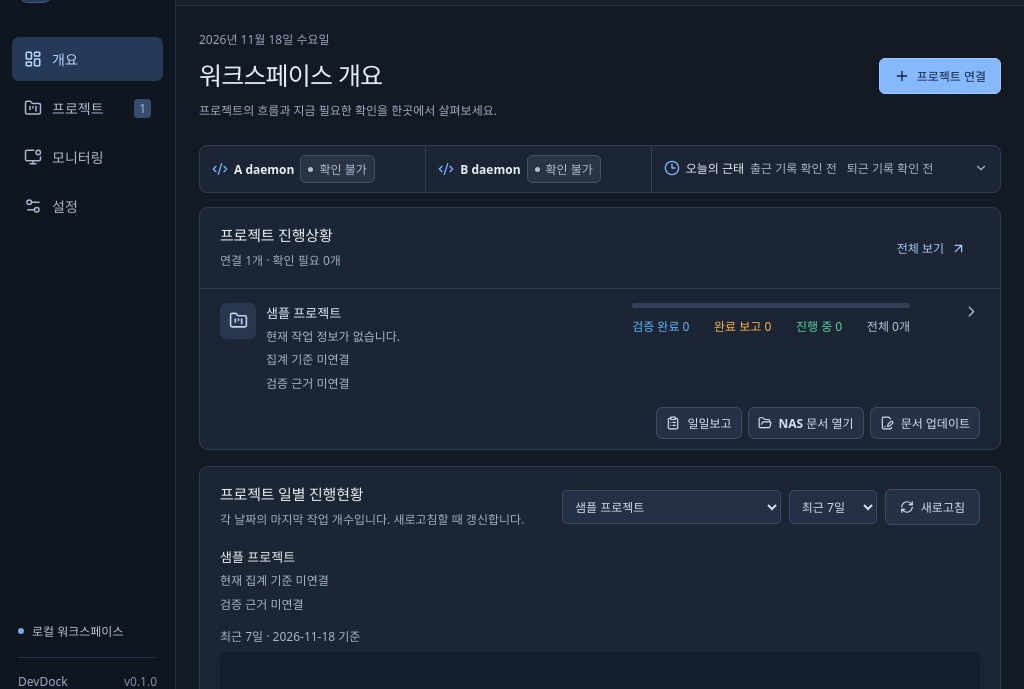
Scenario: opens the selected NAS folder editor when publish targets are missing
The width and height of the screenshot is (1024, 689).
Click the button with aria-label "샘플 프로젝트 문서 업데이트". click: click(925, 423)
box: [870,407,980,439]
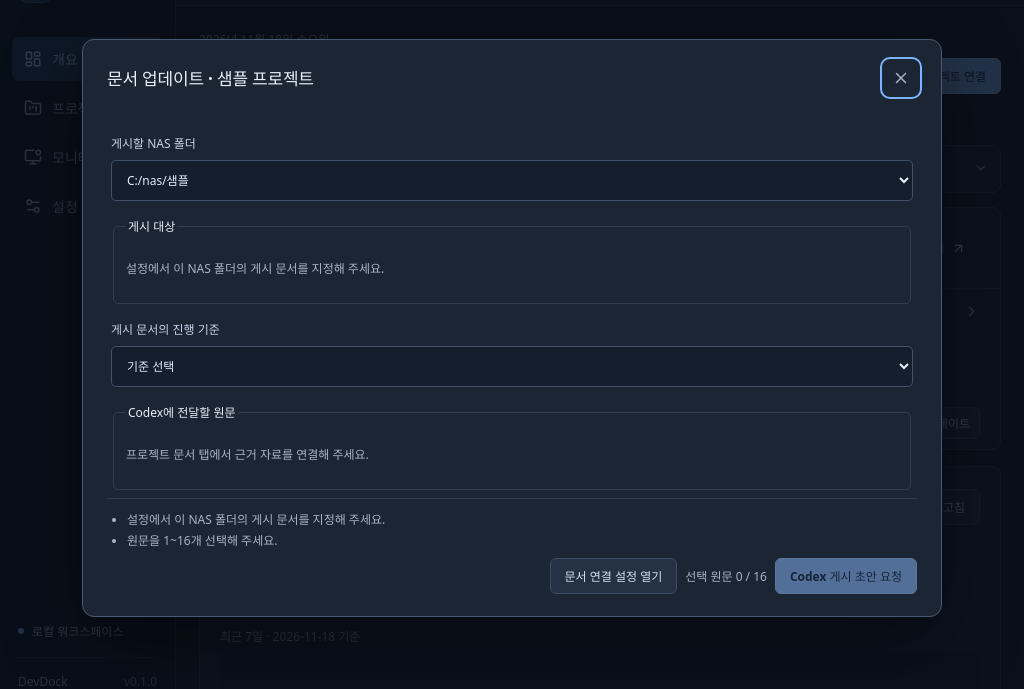
Click the button "문서 연결 설정 열기". click: click(613, 576)
box: [550,558,677,594]
(page scrolled)
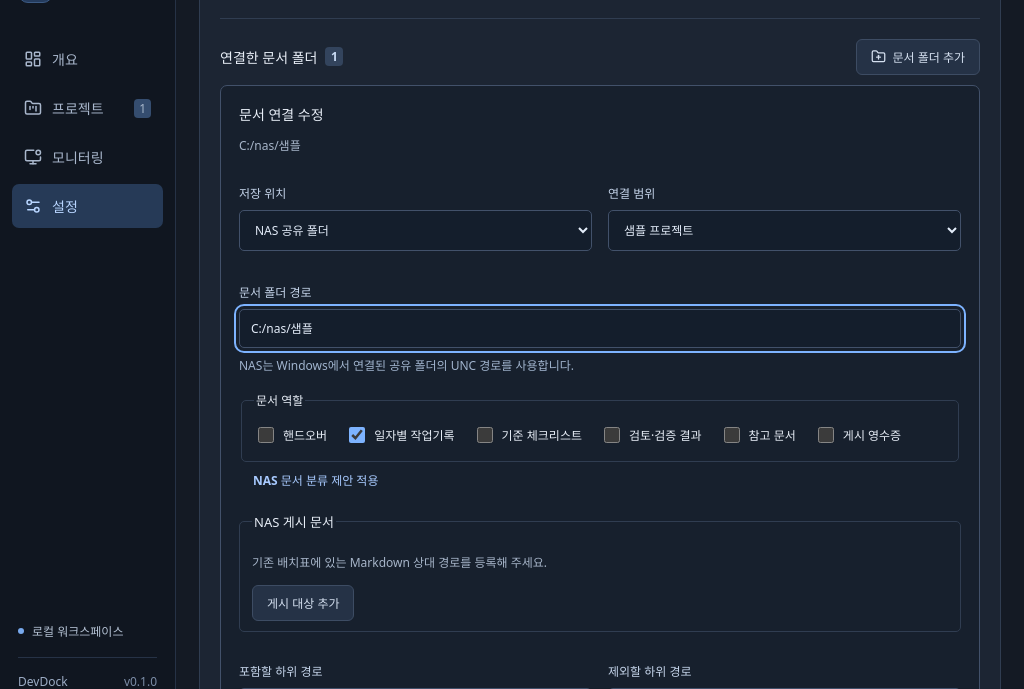
Check: the field labelled "문서 폴더 경로" holds "C:/nas/샘플", box [239,309,961,348]
